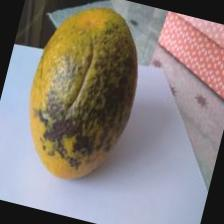Orange Rotten: (7, 0, 171, 200)
